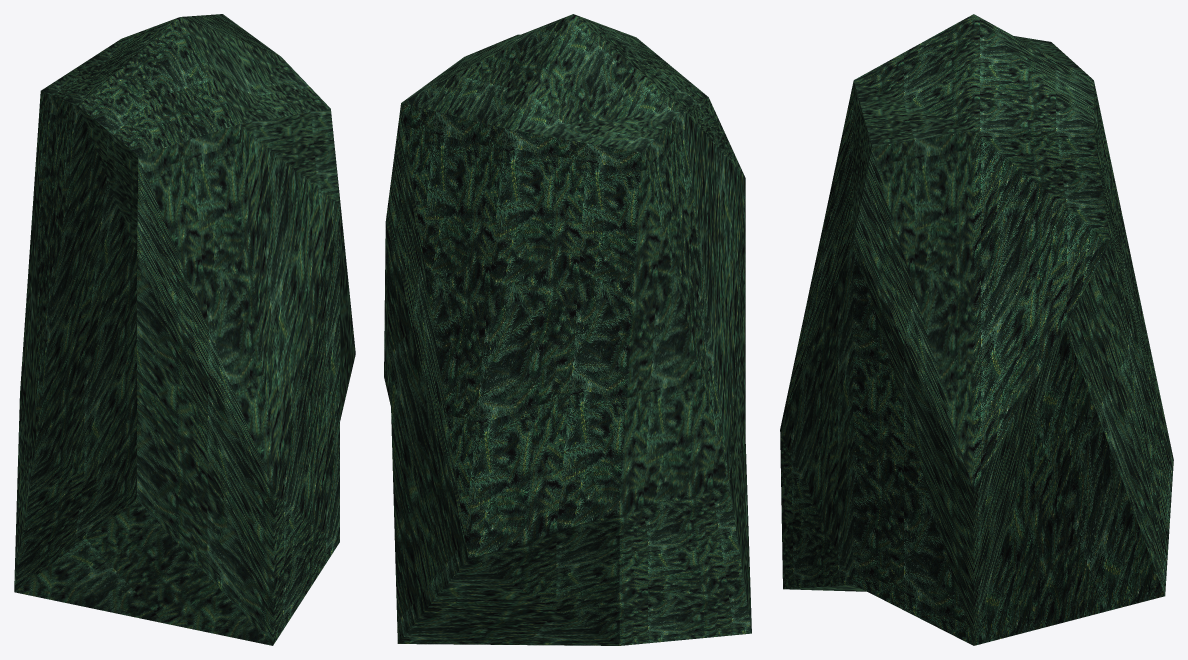
File: Leaves.fbx
3 views of the same model, side by side, from view 1: azimuth 30°, elevation 25°; view 2: azimuth 150°, elevation 25°; view 3: azimuth 270°, elevation 25° (orthographic). The views are drawn at different scales.
Parts seen in each view (by area): view 1: Cube; view 2: Cube; view 3: Cube.
Boxes of the visible parts, bbox=[...] form: Cube: bbox=[14, 14, 355, 645]; Cube: bbox=[384, 14, 751, 645]; Cube: bbox=[780, 14, 1173, 645].
Bounding box in the file's own units: 337 × 534 × 328.
